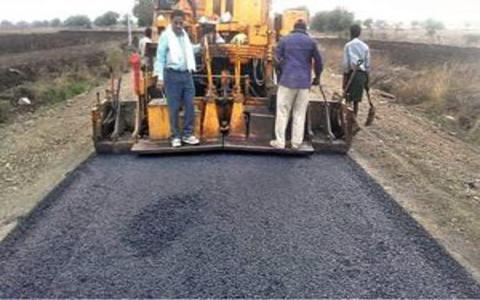Proper road: (28, 163, 441, 296)
